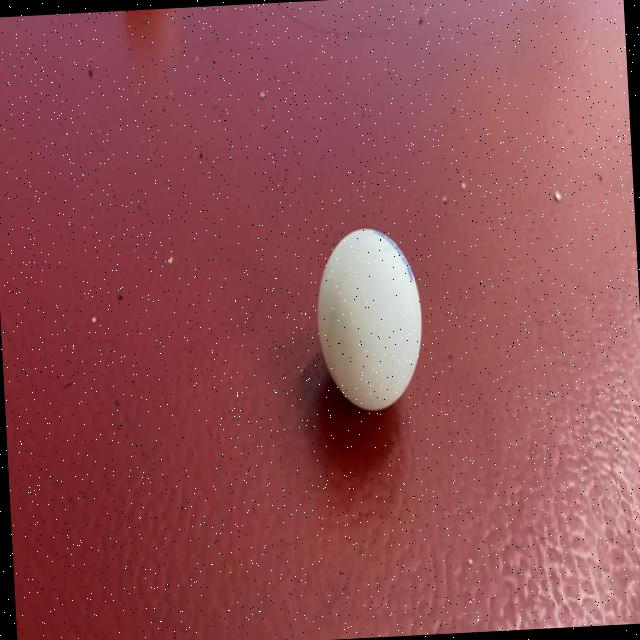ping-pong-ball: (308, 222, 430, 417)
